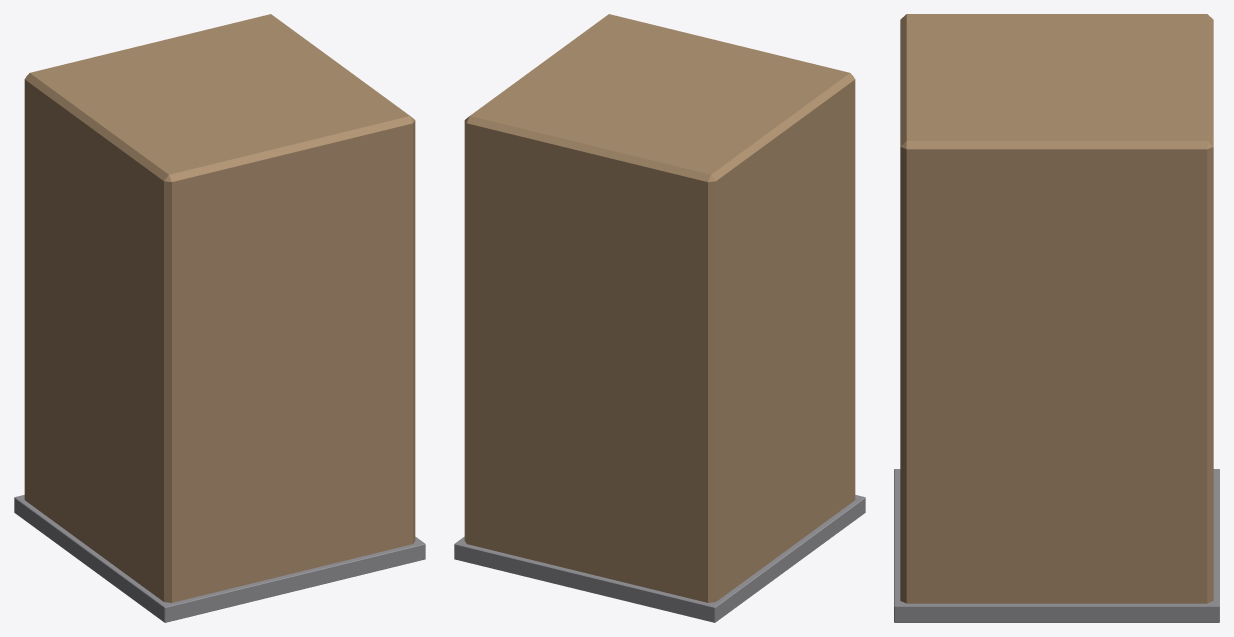
The model's file is desert_town.glb.
3 renders of one model, left to right at view 1: azimuth 30°, elevation 25°; view 2: azimuth 150°, elevation 25°; view 3: azimuth 270°, elevation 25°, orthographic. The views are drawn at different scales.
Visible parts, largest first — view 1: desert_town; view 2: desert_town; view 3: desert_town.
Part boxes in pixels (x1,y1,x2,y2): desert_town: (14,14,425,622); desert_town: (454,14,865,622); desert_town: (894,14,1219,622).
Bounding box in the file's own units: 0.52 × 0.84 × 0.52.
